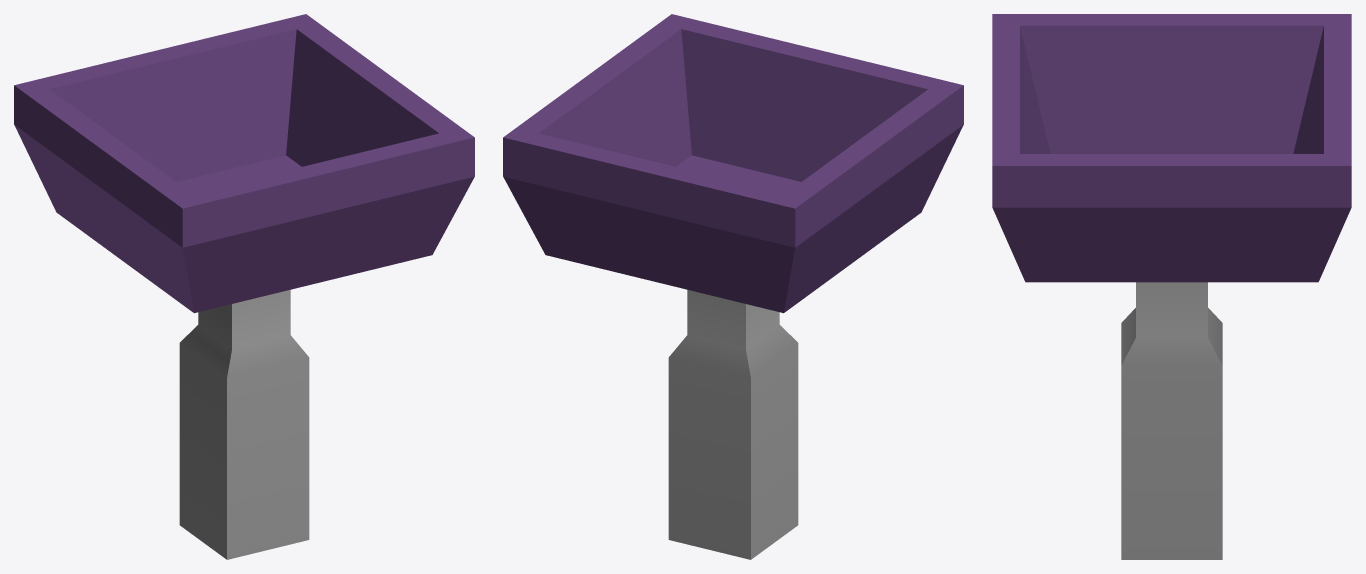
The model's file is MushroomSmall2.fbx.
3 views of the same model, side by side, from view 1: azimuth 30°, elevation 25°; view 2: azimuth 150°, elevation 25°; view 3: azimuth 270°, elevation 25° (orthographic). The views are drawn at different scales.
Parts seen in each view (by area): view 1: MushroomSmall2; view 2: MushroomSmall2; view 3: MushroomSmall2.
Part boxes in pixels (<box>): MushroomSmall2: <box>14,14,474,559</box>; MushroomSmall2: <box>503,14,963,559</box>; MushroomSmall2: <box>992,14,1351,559</box>.
Bounding box in the file's own units: 3.67 × 5.06 × 3.67.
